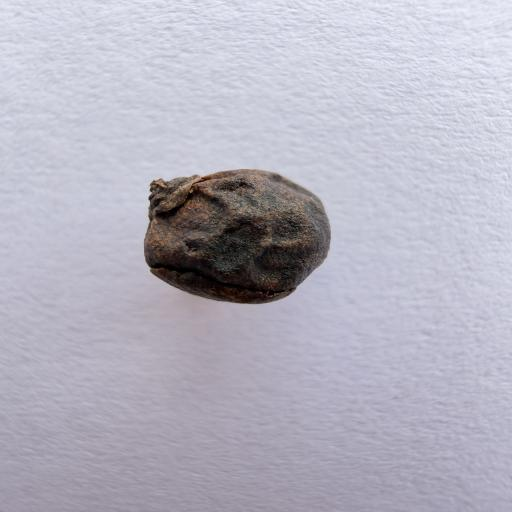Black_pepper: (95, 134, 368, 320)
